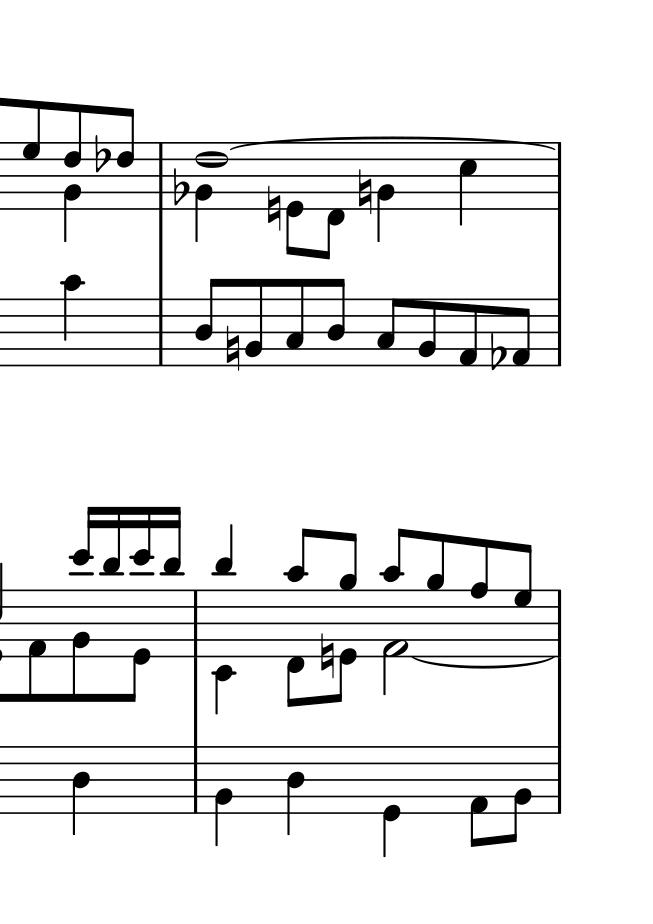16_11: (159, 507, 183, 658), (97, 506, 121, 657)
16_12: (73, 504, 96, 659), (130, 504, 153, 659)
2_1: (382, 590, 410, 696)
4_-2: (212, 590, 238, 716)
4_0: (382, 745, 401, 860)
4_11: (213, 522, 237, 658)
4_12: (60, 274, 85, 369)
4_2: (213, 746, 233, 847), (375, 142, 394, 244)
4_4: (71, 747, 91, 838), (286, 746, 306, 836)
4_5: (458, 140, 478, 228)
8_-1: (321, 142, 346, 261), (286, 589, 308, 709)
8_0: (127, 588, 151, 704), (334, 590, 358, 704), (285, 141, 304, 258)
8_1: (27, 590, 47, 703), (468, 746, 488, 849), (456, 297, 479, 369), (511, 297, 532, 369)
8_10: (286, 526, 310, 658)
8_12: (381, 527, 412, 657)
8_2: (72, 588, 91, 705), (511, 747, 533, 842), (243, 277, 264, 367), (417, 298, 439, 367)
8_3: (283, 277, 305, 368), (375, 297, 403, 368)
8_4: (193, 277, 222, 367), (326, 277, 347, 368)
8_6: (115, 107, 137, 211)
8_7: (22, 100, 42, 211), (514, 544, 532, 642)
8_8: (470, 539, 489, 644)
8_9: (424, 532, 446, 660), (338, 531, 359, 658)
Flat: (171, 166, 188, 208), (93, 133, 110, 174), (489, 331, 505, 372)
Natural: (357, 168, 373, 216), (319, 632, 335, 680), (266, 187, 282, 233), (225, 326, 241, 372)
Single_barline: (187, 747, 205, 811), (153, 298, 169, 366), (551, 300, 567, 366), (551, 747, 567, 813), (153, 142, 169, 207), (552, 143, 567, 208), (188, 592, 203, 656), (552, 588, 566, 642)
Slur: (227, 134, 557, 151), (411, 657, 557, 669)
